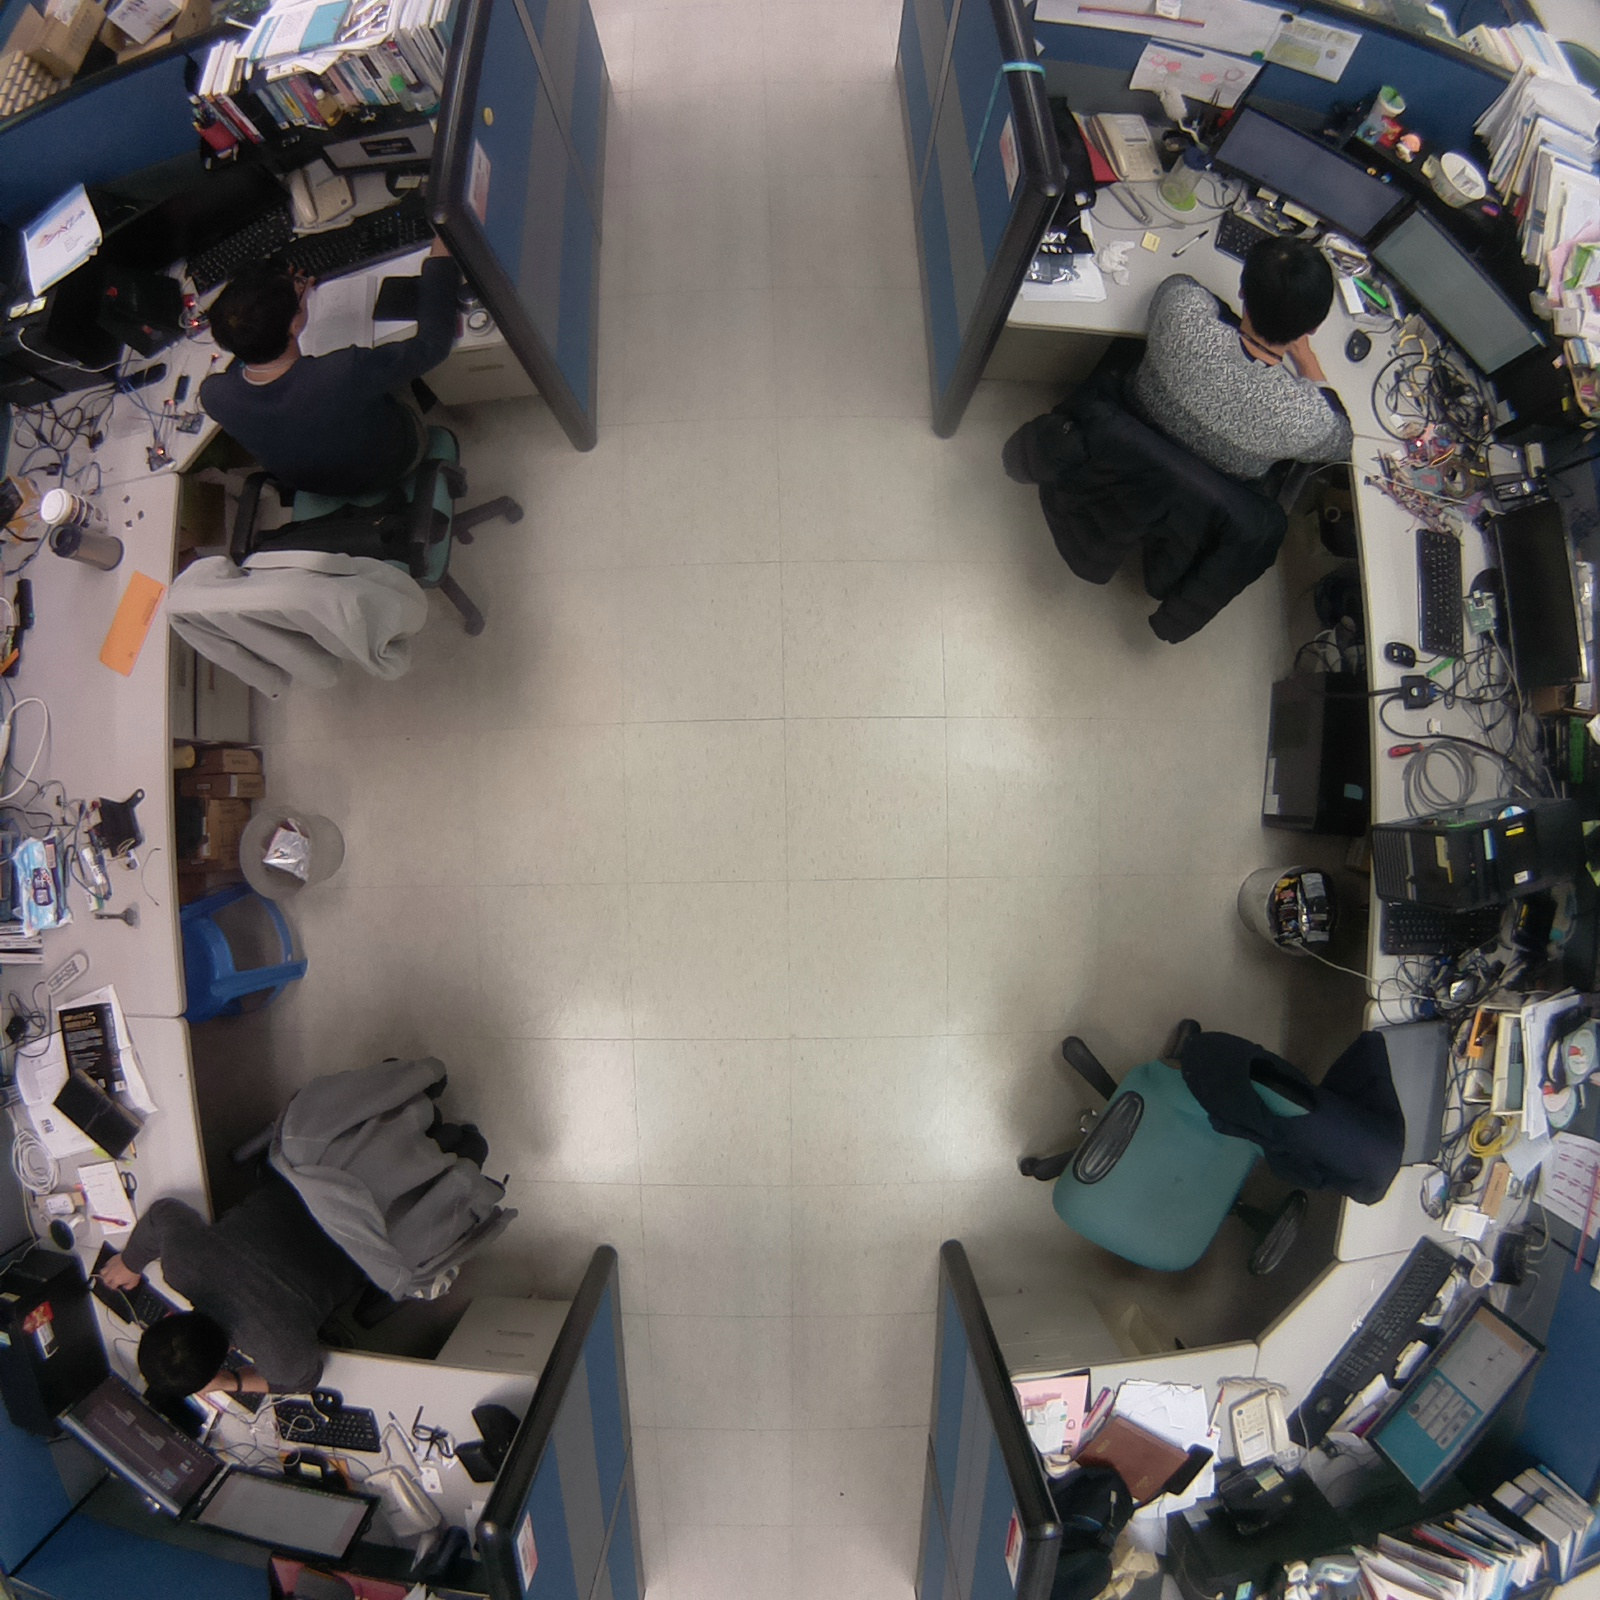chair: (995, 990, 1366, 1304)
sitting: (141, 217, 551, 725), (73, 1029, 530, 1439), (985, 220, 1382, 658)
